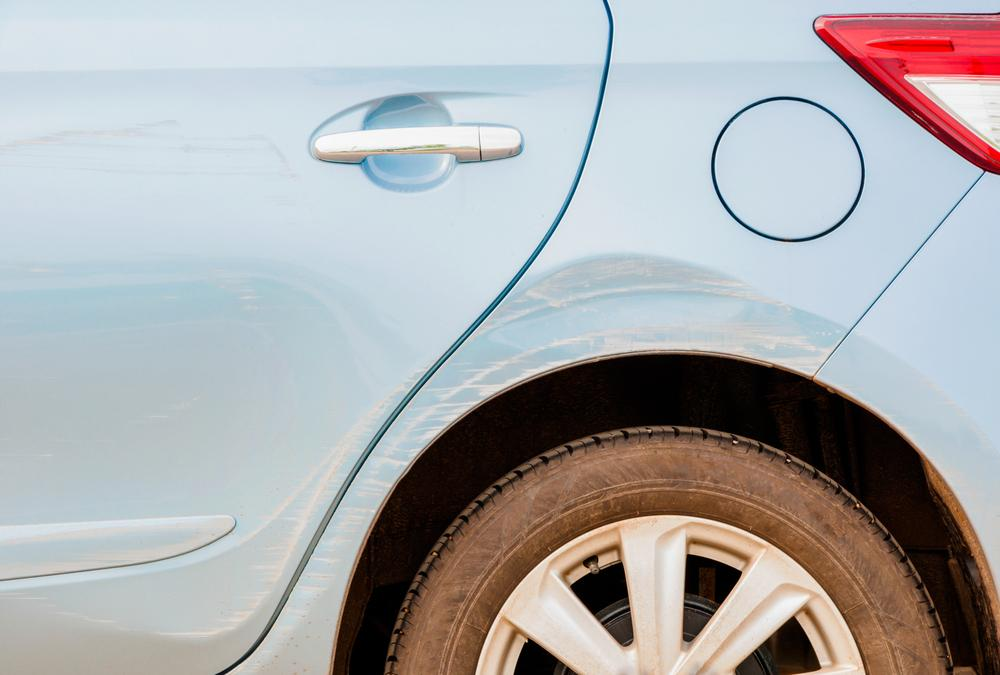dent: (488, 252, 746, 364)
scratch: (17, 368, 422, 646), (281, 322, 554, 619), (0, 109, 298, 188), (726, 283, 831, 377)
